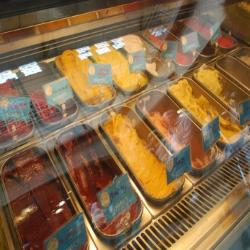icecream: (97, 97, 215, 196), (4, 157, 80, 250), (26, 57, 116, 117)
